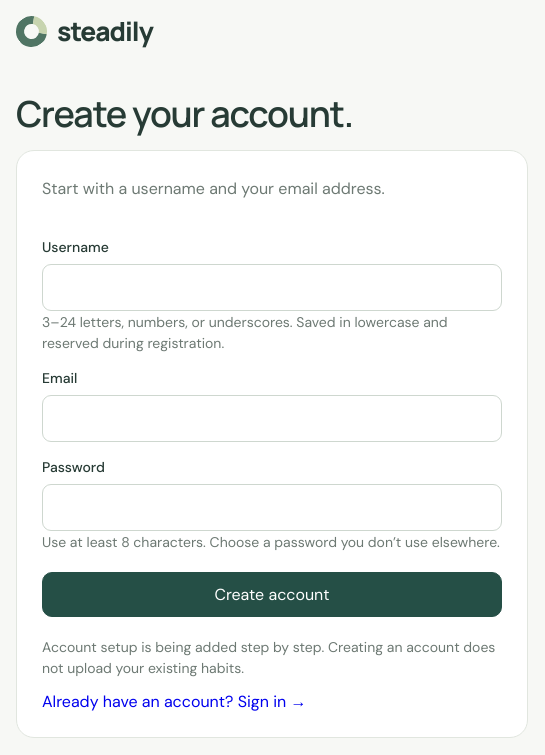
Test: normalizes the username and shows confirmation with signup profile creation
This screenshot has width=545, height=755.
Type "Alex_123" into the field labelled "Username" at (272, 287), box [42, 264, 502, 311]
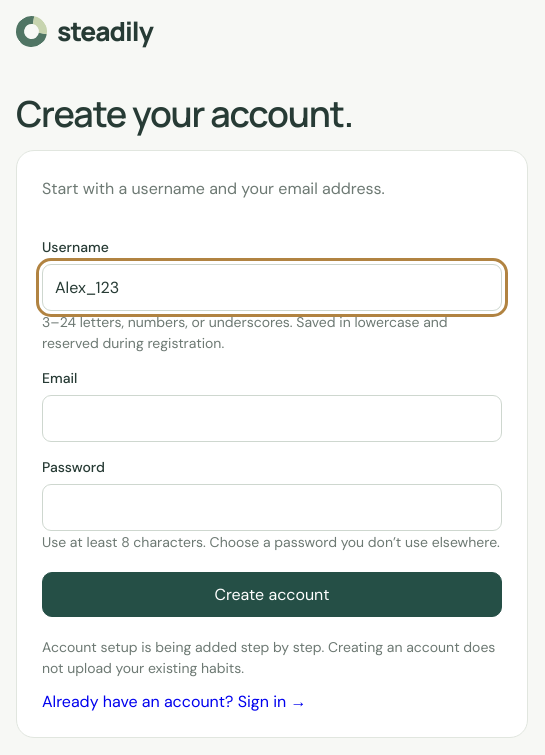
Type "alex@example.com" into the field labelled "Email" at (272, 418), box [42, 395, 502, 442]
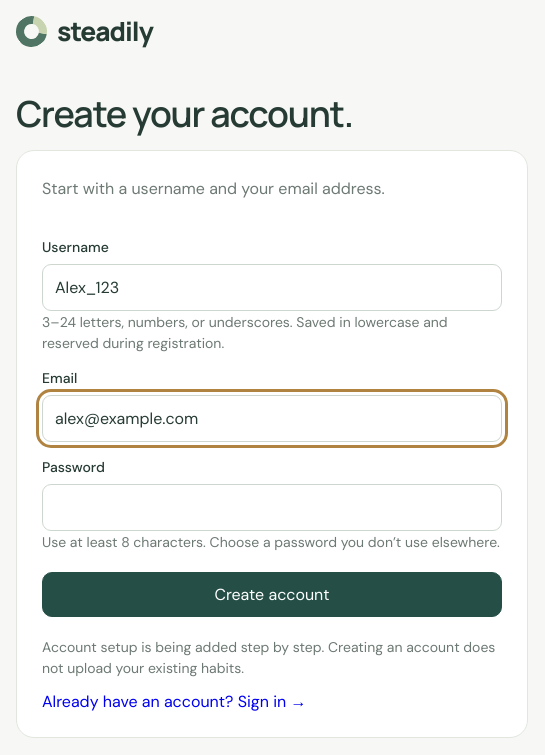
Type "a-long-test-password" into the password field labelled "Password" at (272, 507), box [42, 484, 502, 531]
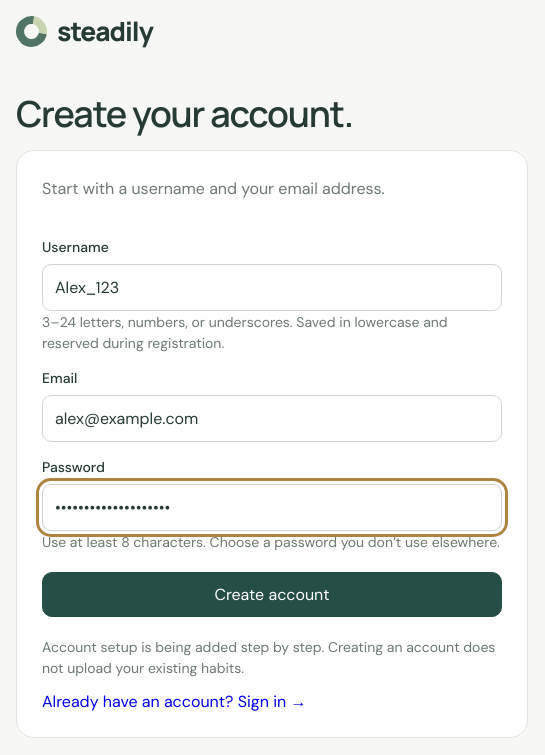
Click the button "Create account" at (272, 594), box [42, 572, 502, 617]
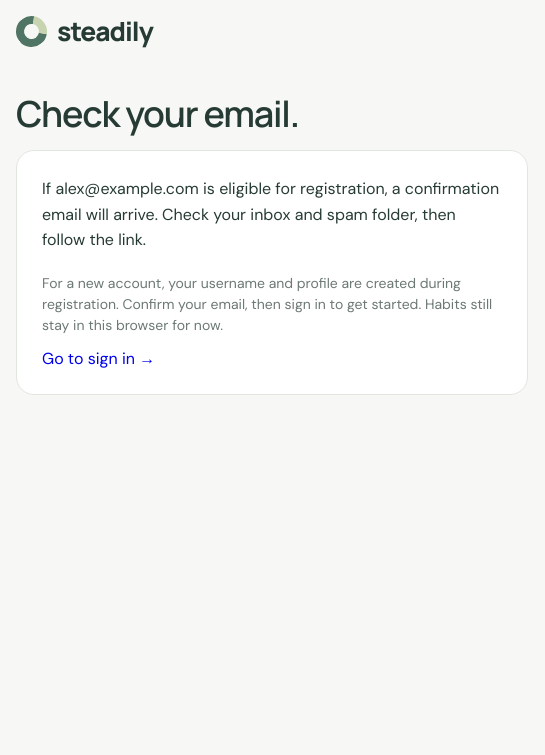
expect the heading "Check your email." is shown: met, box [16, 89, 299, 138]
expect the text "profile are created during registration" is shown: met, box [42, 274, 492, 334]
expect the label labelled "Password" is gone: met
